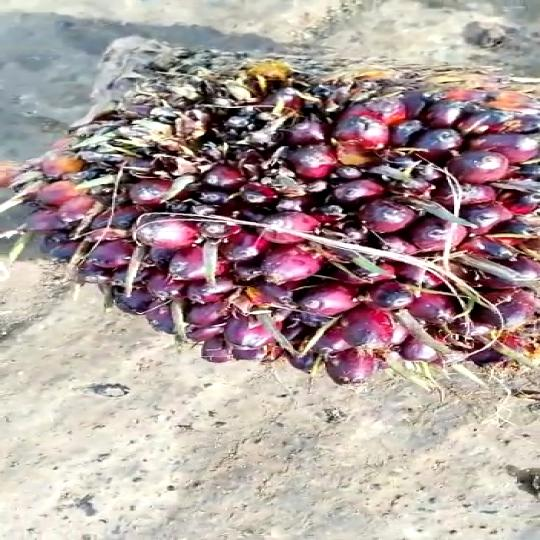masak: (0, 36, 540, 405)
